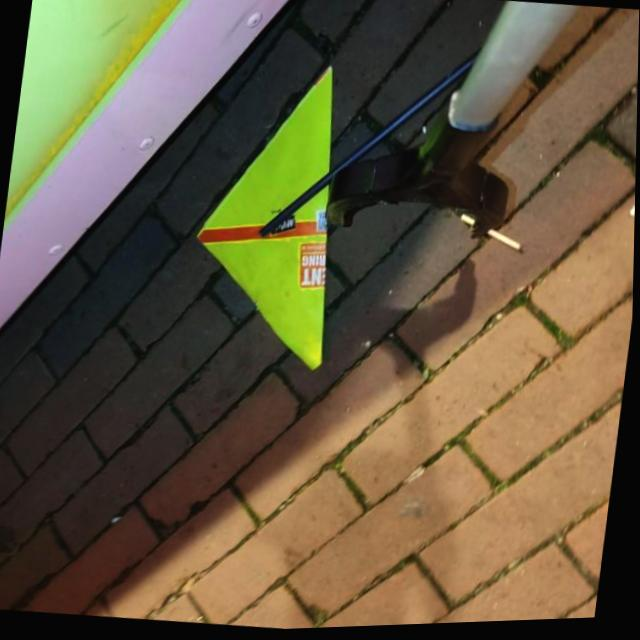Paper: (174, 49, 362, 383)
